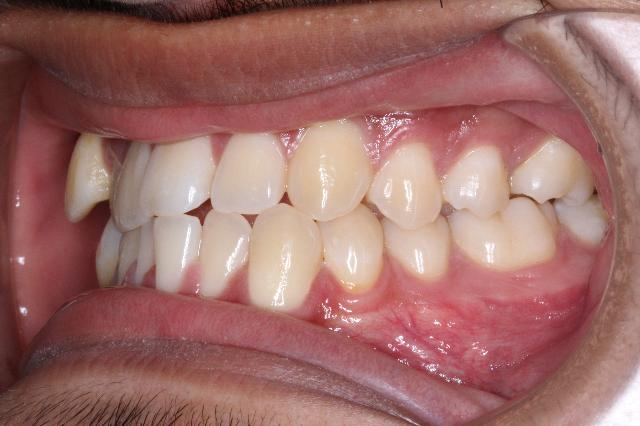canine class III 1/4: (242, 118, 386, 316)
molar class III 3/4: (448, 138, 598, 278)
